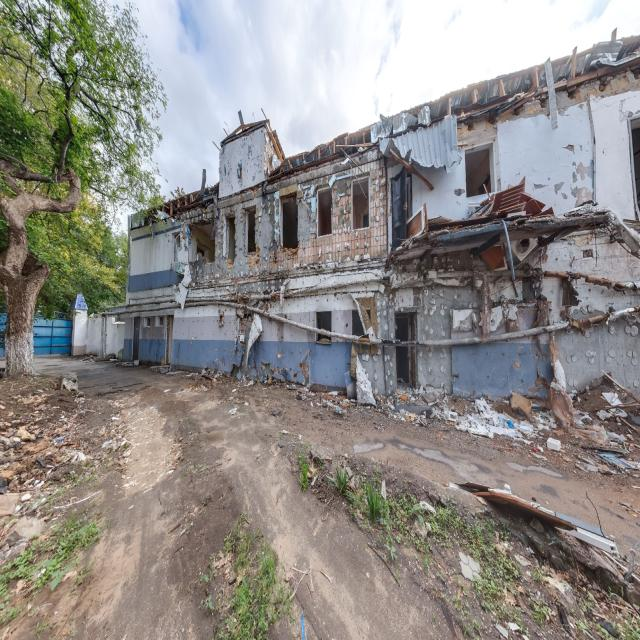broken_window: (394, 310, 417, 388), (464, 144, 492, 199), (279, 190, 298, 249), (351, 175, 369, 230), (316, 186, 332, 238), (315, 310, 332, 345), (244, 206, 256, 255), (225, 215, 236, 264)
building: (88, 29, 639, 408)
